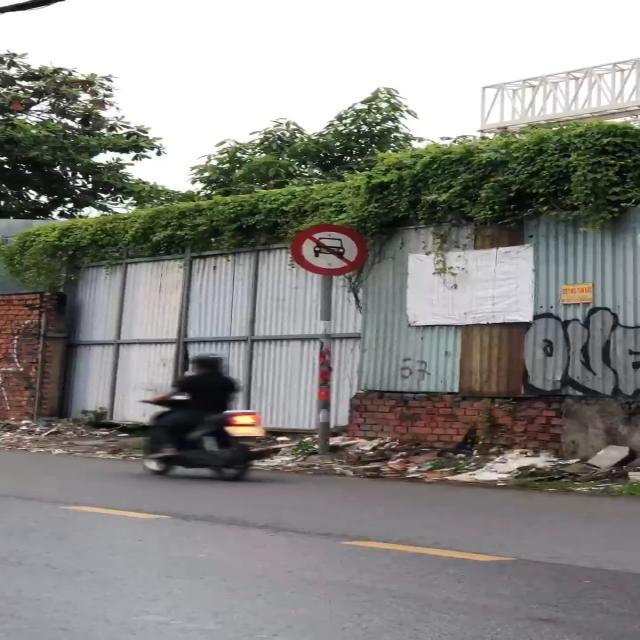Bien bao cam xe oto: (286, 222, 378, 278)
